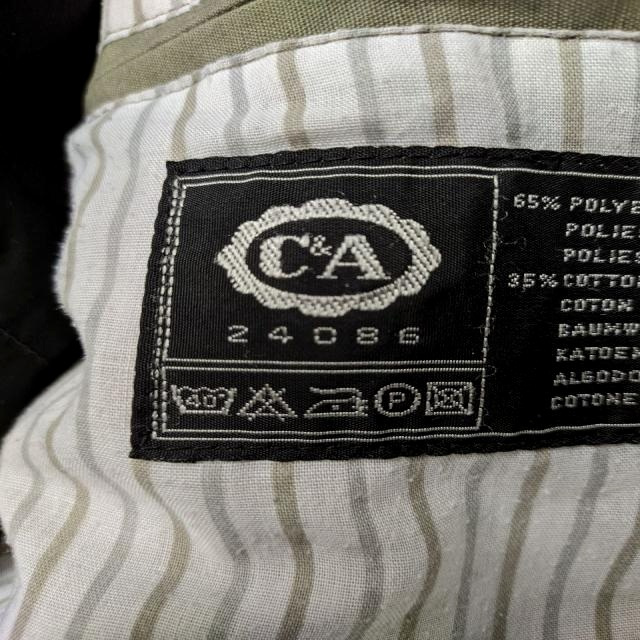40C: (175, 379, 238, 419)
DN_bleach: (240, 385, 299, 423)
DN_tumble_dry: (427, 376, 477, 416)
dry_clean_any_solvent_except_trichloroethylene: (372, 381, 424, 419)
iron_low: (305, 385, 366, 421)
